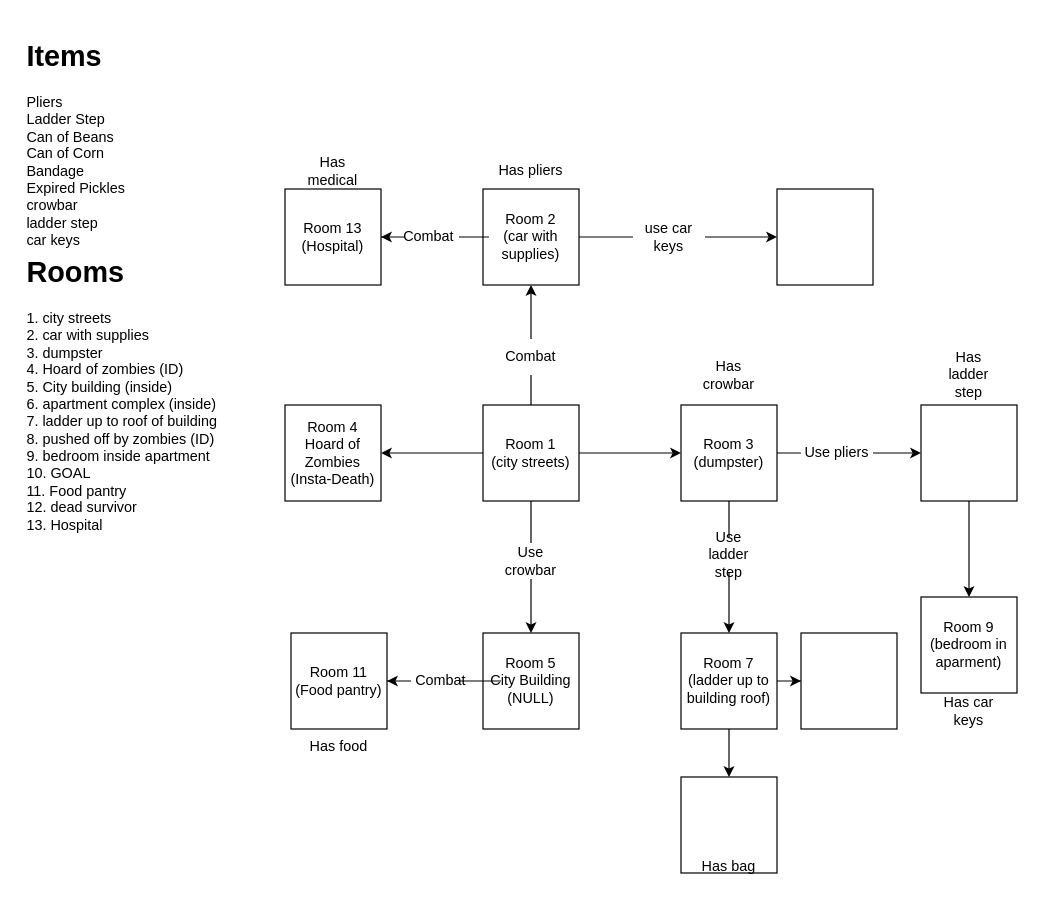
Image size: 1038x905. Some labels were removed from this diagram. The shapes that lost their labels are listed below. From the top down, each one's box as (x1, y1, x2, y2) in pixels, then its label:
(776, 188, 873, 285): Room 10 Freedom GOAL
(920, 404, 1017, 501): Room 6 (apartment complex through gate)
(800, 632, 897, 729): Room 8 (pushed off roof by zombies) ID
(680, 776, 777, 873): Room 12 (deceased survivor)
